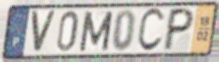0: (55, 9, 81, 55), (112, 8, 138, 53)
C: (135, 6, 166, 54)
M: (77, 10, 115, 54)
P: (160, 7, 196, 53)
V: (29, 10, 58, 55)
